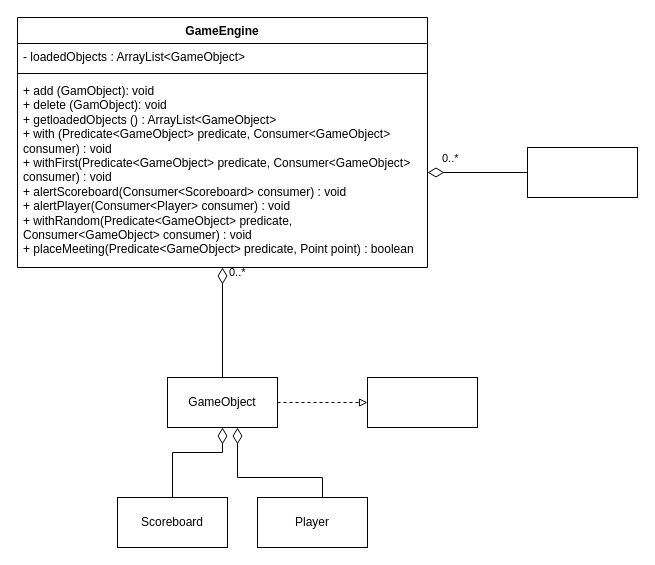
This 655x565 diagram has some shape labels left out. Here are the shapes that lost their labels. From the top down, the centre of each, then its label:
At point 582,172: "Point".
At point 422,402: "IGameObject".
